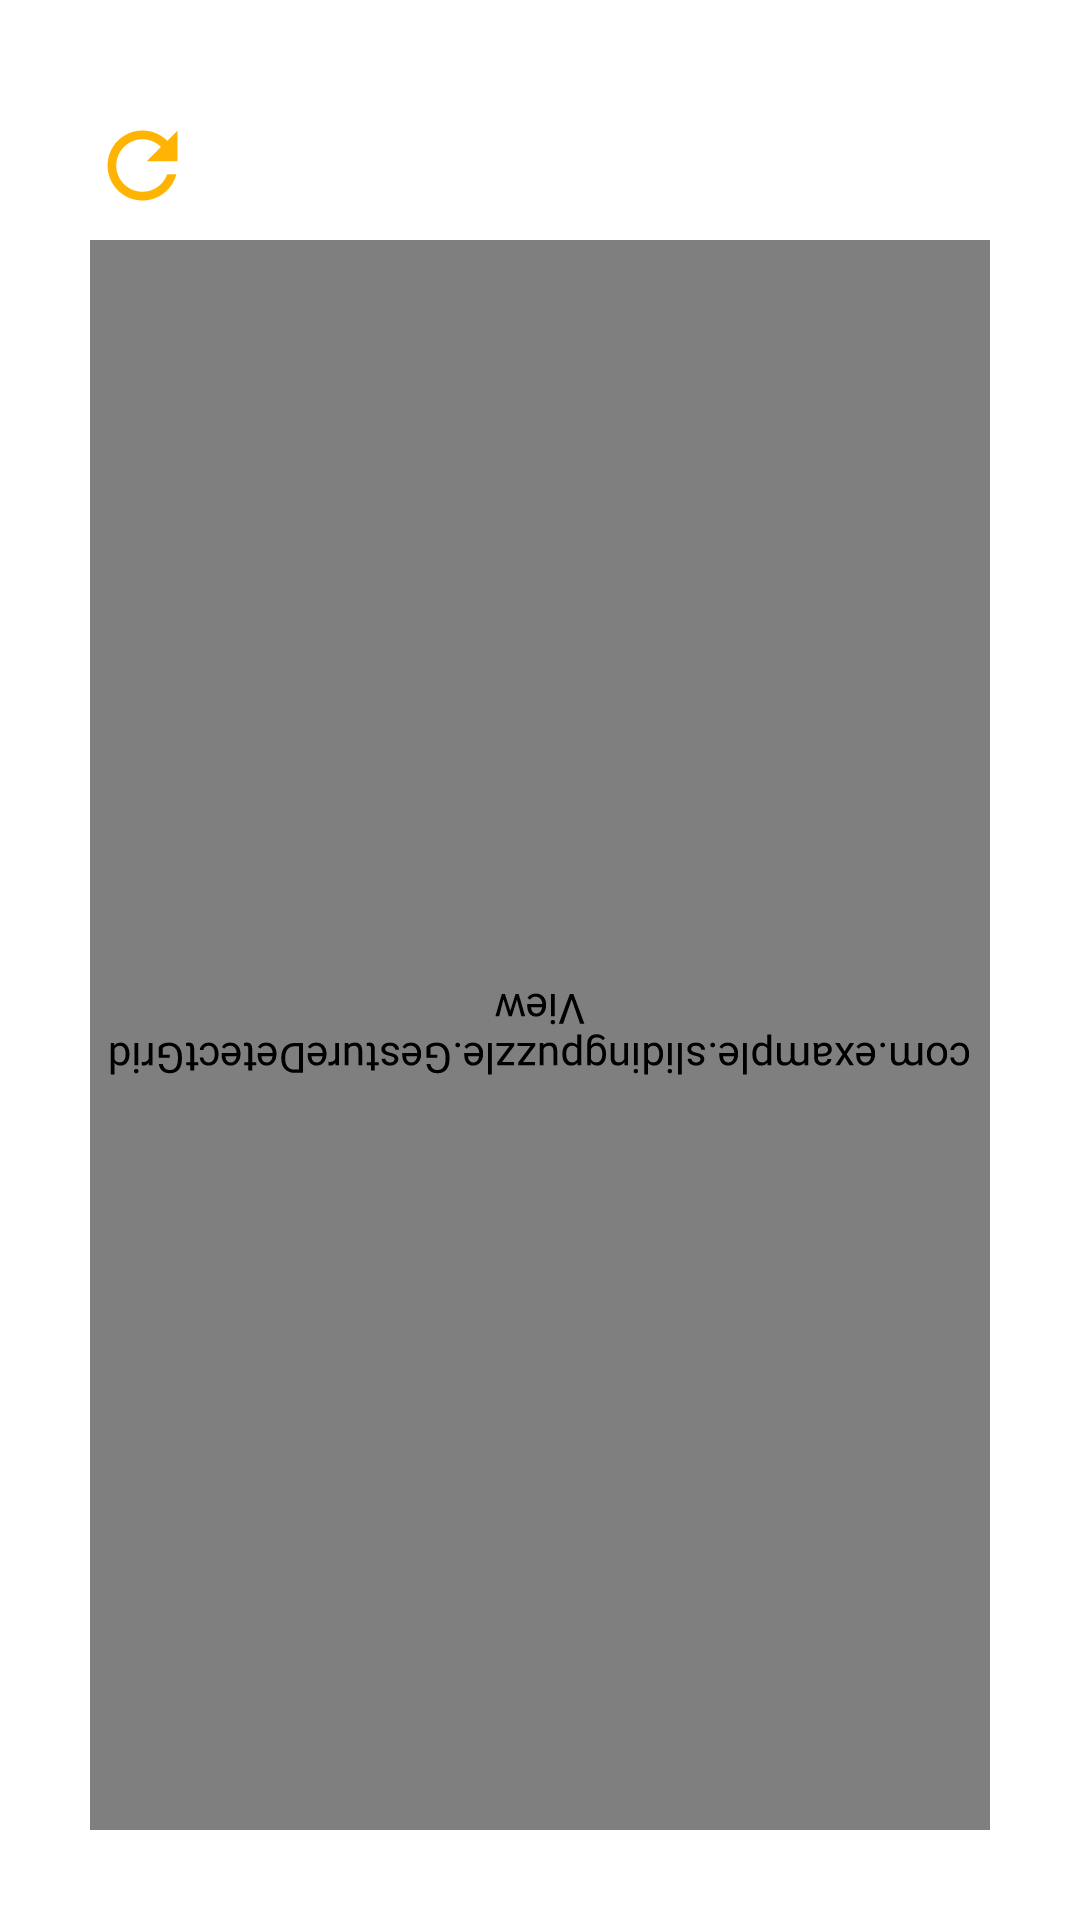

Icons on this 1080px×1920px Android screen, each with its box as bbox=[x1, y1, x2, y2]:
refresh: bbox=[107, 130, 178, 201]
